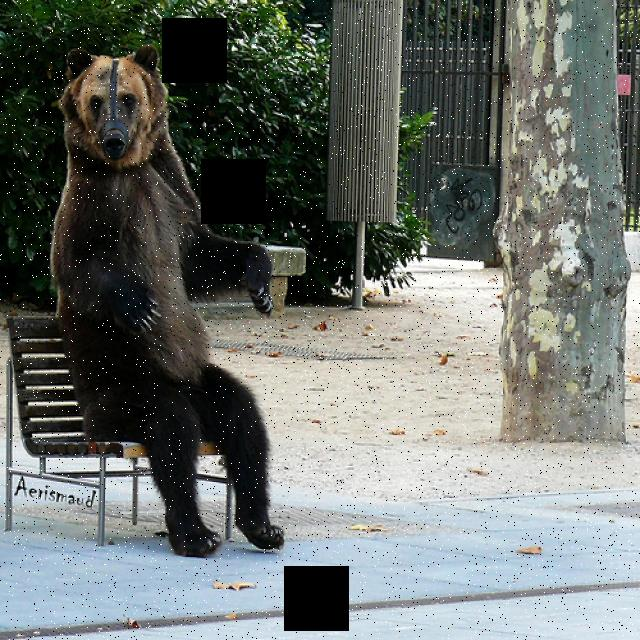Bear: (41, 48, 287, 556)
